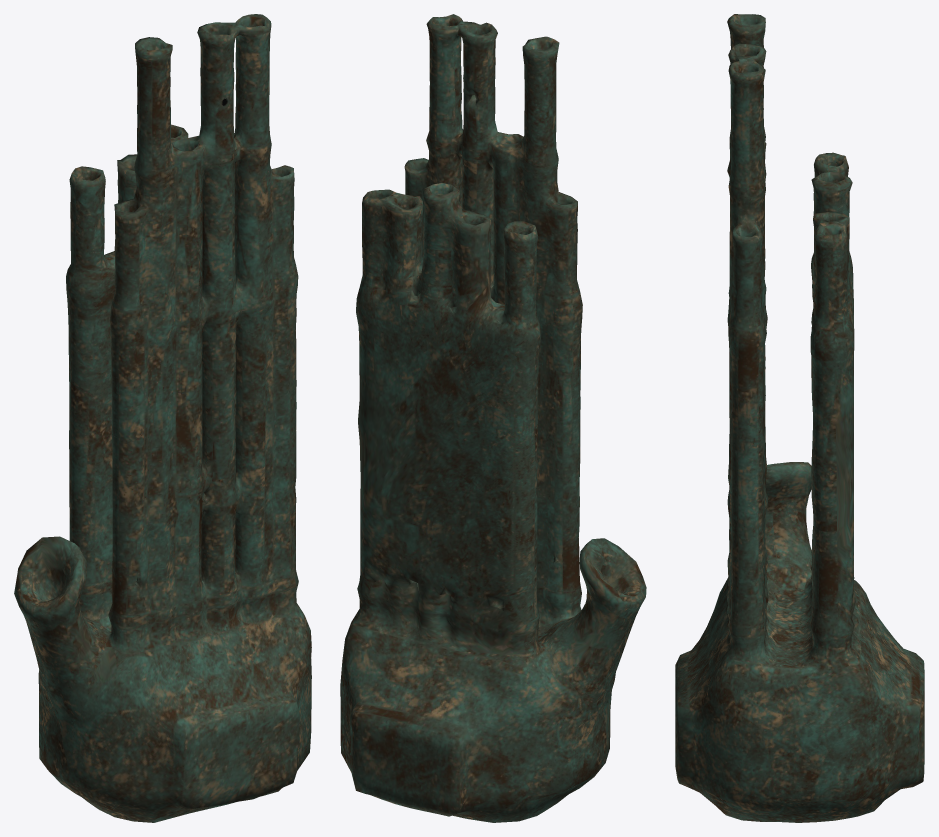
Rendered from 05-han-bronze-sheng.glb.
3 views of the same model, side by side, from view 1: azimuth 30°, elevation 25°; view 2: azimuth 150°, elevation 25°; view 3: azimuth 270°, elevation 25° (orthographic). The views are drawn at different scales.
Parts seen in each view (by area): view 1: node_0; view 2: node_0; view 3: node_0.
Part boxes in pixels (<box>): node_0: <box>14,14,311,822</box>; node_0: <box>340,14,646,822</box>; node_0: <box>675,14,924,822</box>.
Bounding box in the file's own units: 0.4298 × 1.14 × 0.3461.
Materials: 1 (1 with a texture image).
